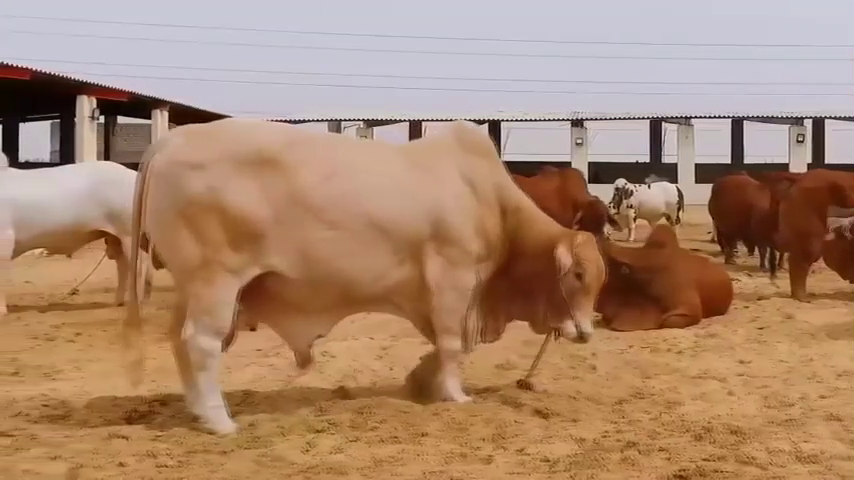bo: (124, 104, 607, 432), (3, 150, 159, 316), (589, 223, 739, 337), (758, 153, 854, 307), (497, 150, 616, 245), (706, 159, 770, 272), (605, 164, 690, 242)
